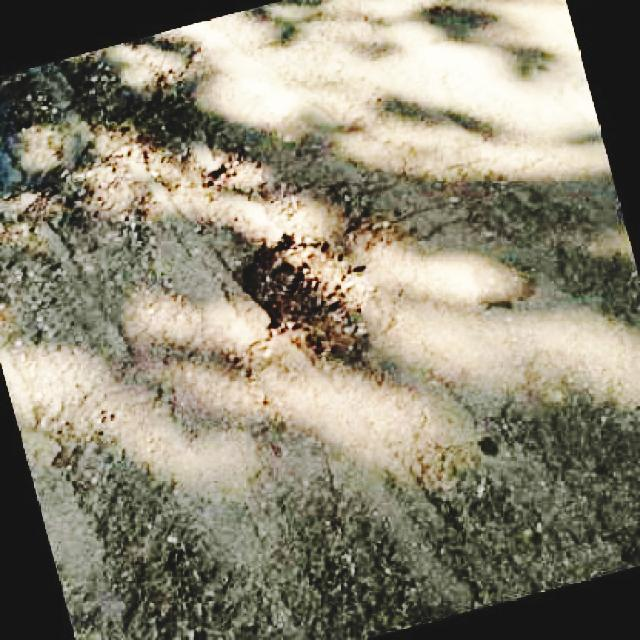pothole: (0, 57, 265, 191), (232, 226, 378, 369)
